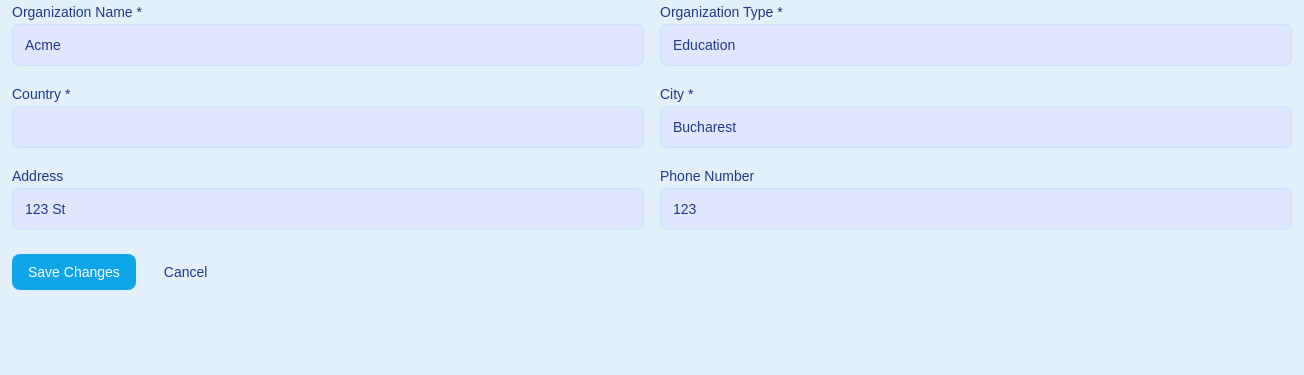
Scenario: OrganizationInlineEditForm › shows validation error when country is empty
The image size is (1304, 375).
Click the button "Save Changes" at (74, 272), box [12,254,136,290]
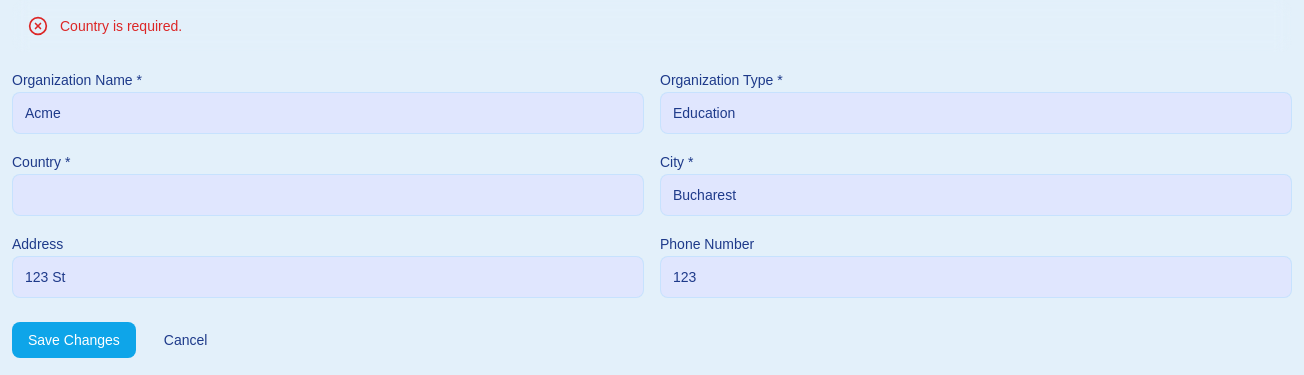
Now the text "Country is required." is shown, box [60,16,182,36]
